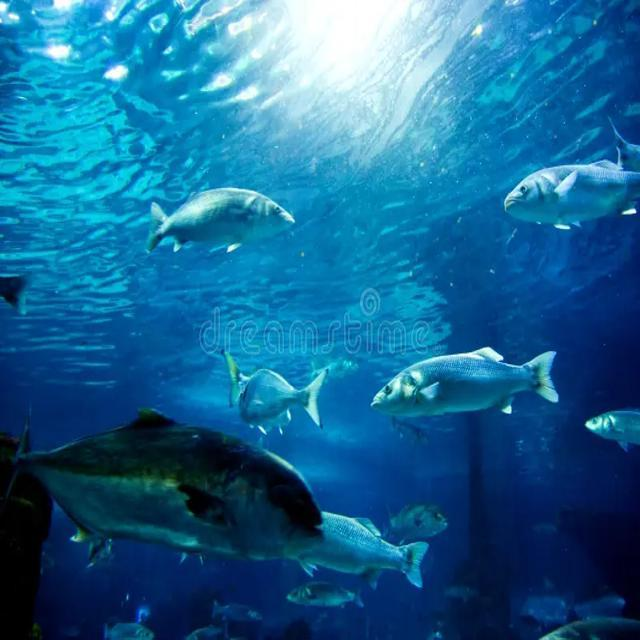fish: (10, 404, 324, 558), (367, 343, 561, 414), (148, 187, 296, 254), (504, 167, 640, 231), (317, 513, 430, 589), (239, 365, 324, 429), (541, 575, 627, 618), (377, 504, 449, 541), (583, 408, 640, 451), (289, 582, 365, 613), (536, 619, 640, 640), (0, 264, 37, 322), (607, 115, 640, 171), (523, 592, 572, 627), (387, 411, 429, 451), (213, 600, 264, 625), (101, 620, 157, 640), (440, 582, 483, 605), (183, 623, 232, 640)
